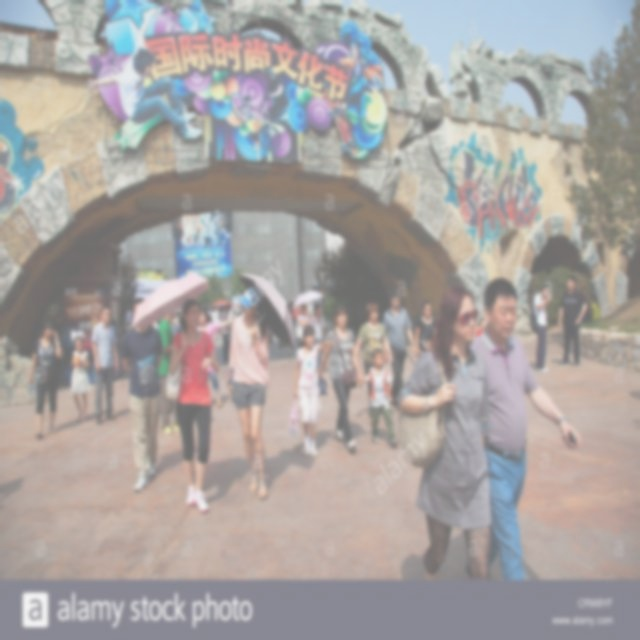pessoa: (468, 276, 582, 580), (396, 284, 494, 582), (85, 2, 206, 142), (442, 127, 544, 249), (163, 298, 220, 516), (225, 284, 272, 502), (119, 294, 166, 494), (316, 304, 364, 454), (286, 322, 334, 458), (354, 300, 395, 426), (356, 344, 401, 451), (27, 314, 64, 441), (334, 38, 380, 132), (246, 60, 294, 148), (382, 292, 418, 406), (196, 308, 234, 408), (92, 306, 120, 426), (555, 273, 588, 369), (158, 310, 181, 435), (526, 279, 554, 374), (69, 327, 91, 423), (414, 298, 436, 358), (310, 303, 326, 372), (220, 302, 233, 366), (296, 302, 312, 350), (578, 292, 594, 324), (416, 334, 434, 357), (589, 294, 602, 321), (211, 304, 220, 342), (286, 300, 300, 322), (276, 338, 292, 356), (475, 316, 487, 338), (175, 306, 181, 331), (581, 287, 590, 303), (206, 306, 212, 316)
